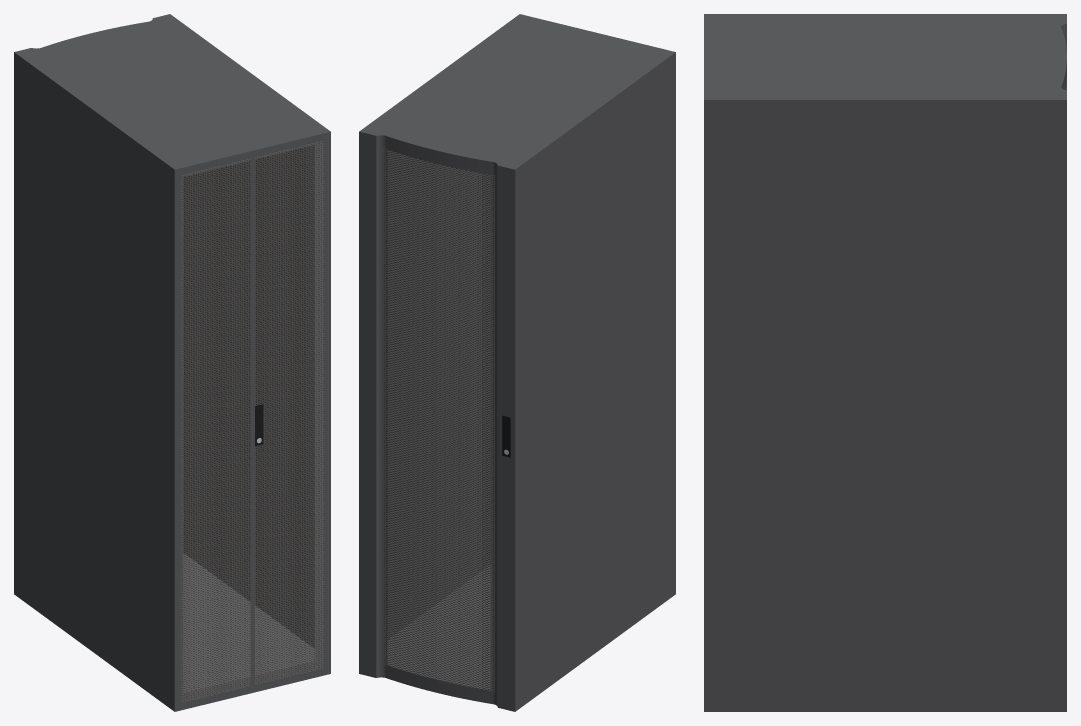
The model's file is APC+AR3100+42U.glb.
3 views of the same model, side by side, from view 1: azimuth 30°, elevation 25°; view 2: azimuth 150°, elevation 25°; view 3: azimuth 270°, elevation 25° (orthographic). The views are drawn at different scales.
Visible parts, largest first — view 1: APC AR3100 42U Netshelter#1, APC AR3100 Rear Door#1, APC AR3100 Front Door#1; view 2: APC AR3100 42U Netshelter#1, APC AR3100 Front Door#1, APC AR3100 Rear Door#1; view 3: APC AR3100 42U Netshelter#1, APC AR3100 Front Door#1, APC AR3100 Rear Door#1.
Part boxes in pixels (x1=…): APC AR3100 42U Netshelter#1: x1=22, y1=20, x2=326, y2=708; APC AR3100 Rear Door#1: x1=171, y1=129, x2=330, y2=711; APC AR3100 Front Door#1: x1=14, y1=14, x2=178, y2=600; APC AR3100 42U Netshelter#1: x1=368, y1=17, x2=671, y2=705; APC AR3100 Front Door#1: x1=359, y1=125, x2=523, y2=711; APC AR3100 Rear Door#1: x1=516, y1=14, x2=675, y2=596; APC AR3100 42U Netshelter#1: x1=712, y1=14, x2=1046, y2=711; APC AR3100 Front Door#1: x1=1047, y1=14, x2=1066, y2=711; APC AR3100 Rear Door#1: x1=704, y1=14, x2=712, y2=711.
Size of the model in its own units: 0.6 by 1.99 by 1.07.
Materials: 6 (2 with a texture image).
